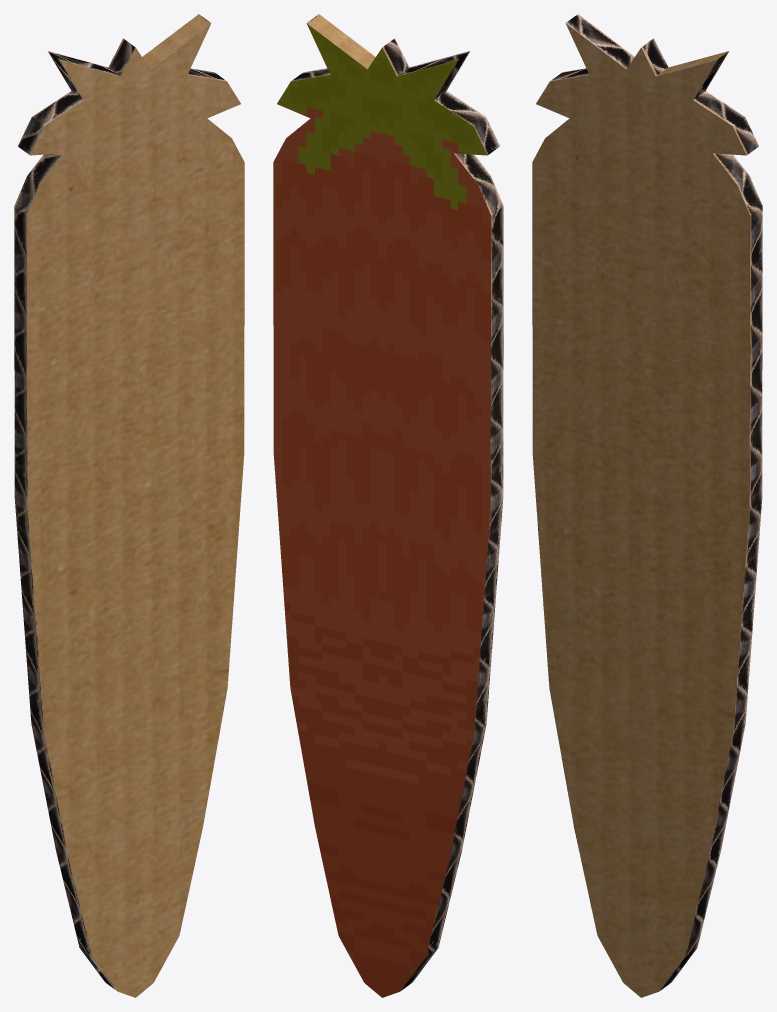
The model's file is ZANAHORIA_A.glb.
The picture shows the model from 3 angles, left to right: view 1: azimuth 30°, elevation 25°; view 2: azimuth 150°, elevation 25°; view 3: azimuth 330°, elevation 25°; orthographic projection.
Visible parts, largest first — view 1: ZANAHORIA; view 2: ZANAHORIA; view 3: ZANAHORIA.
Part boxes in pixels (bbox=[...]): ZANAHORIA: bbox=[14, 14, 244, 997]; ZANAHORIA: bbox=[273, 14, 503, 997]; ZANAHORIA: bbox=[532, 14, 762, 997].
Size of the model in its own units: 0.8002 by 3.35 by 0.08.
1 material, 1 textured.
